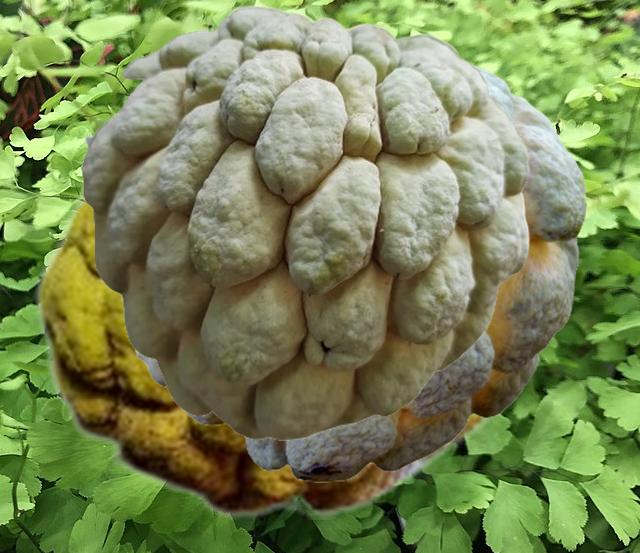atis: (118, 62, 585, 481), (80, 5, 529, 439), (32, 188, 507, 518)
